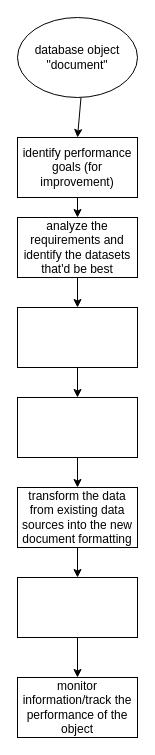
The diagram is 155 pixels wide and 755 high, and some of its shapes have lost their labels. Each missing label, with the centre of its shape:
define the structure of the documents (attributes, relationships etc): the point at 77,427
determine a suitable noSQL data model that would support the document object: the point at 77,337
implement the process for inserting data into the database object: the point at 77,607
